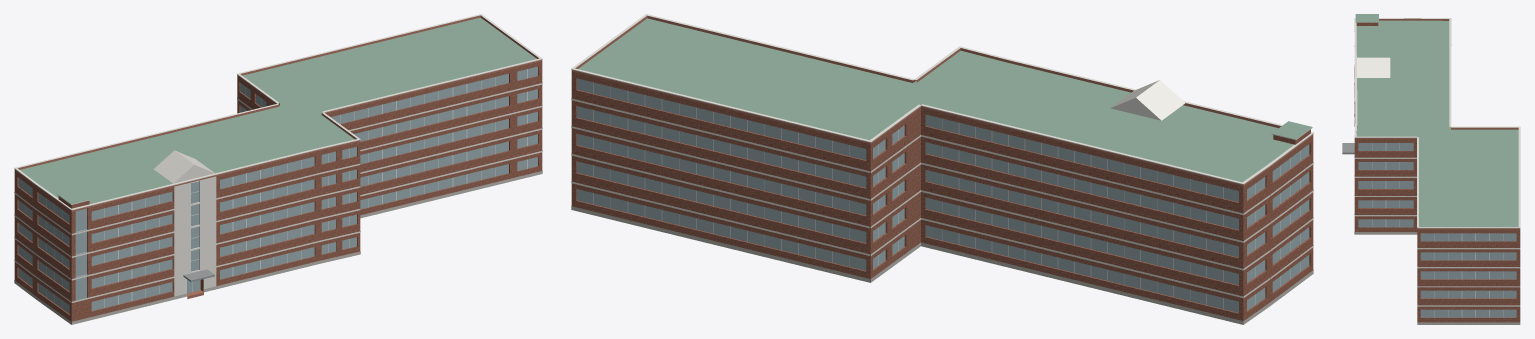
The picture shows the model from 3 angles, left to right: view 1: azimuth 30°, elevation 25°; view 2: azimuth 150°, elevation 25°; view 3: azimuth 270°, elevation 25°; orthographic projection. The views are drawn at different scales.
Visible parts, largest first — view 1: b115951818__wall, b115951818__roof, b115951818__glass, b115951818__trim, b115951818__wall2, b115951818__parapet, b115951818__base, b115951818__frame; view 2: b115951818__wall, b115951818__glass, b115951818__roof, b115951818__trim, b115951818__parapet, b115951818__base, b115951818__frame; view 3: b115951818__roof, b115951818__wall, b115951818__glass, b115951818__trim, b115951818__parapet, b115951818__base, b115951818__frame, b115951818__canopy.
Part boxes in pixels (x1,y1,x2,y2): b115951818__wall: [14, 61, 542, 324]; b115951818__roof: [20, 17, 536, 204]; b115951818__glass: [18, 66, 537, 313]; b115951818__trim: [14, 14, 542, 302]; b115951818__wall2: [174, 165, 216, 296]; b115951818__parapet: [14, 15, 542, 211]; b115951818__base: [14, 171, 542, 324]; b115951818__frame: [46, 69, 527, 308]; b115951818__wall: [571, 71, 1313, 324]; b115951818__glass: [577, 78, 1309, 312]; b115951818__roof: [578, 18, 1312, 182]; b115951818__trim: [571, 14, 1313, 298]; b115951818__parapet: [571, 15, 1313, 186]; b115951818__base: [571, 206, 1313, 324]; b115951818__frame: [593, 82, 1300, 309]; b115951818__roof: [1355, 14, 1518, 226]; b115951818__wall: [1354, 22, 1520, 322]; b115951818__glass: [1358, 143, 1516, 317]; b115951818__trim: [1354, 18, 1520, 306]; b115951818__parapet: [1354, 18, 1520, 229]; b115951818__base: [1354, 114, 1520, 324]; b115951818__frame: [1372, 143, 1503, 317]; b115951818__canopy: [1342, 143, 1354, 154].
Size of the model in its own units: 84.89 by 20.95 by 30.5.
Materials: 11 (1 with a texture image).
